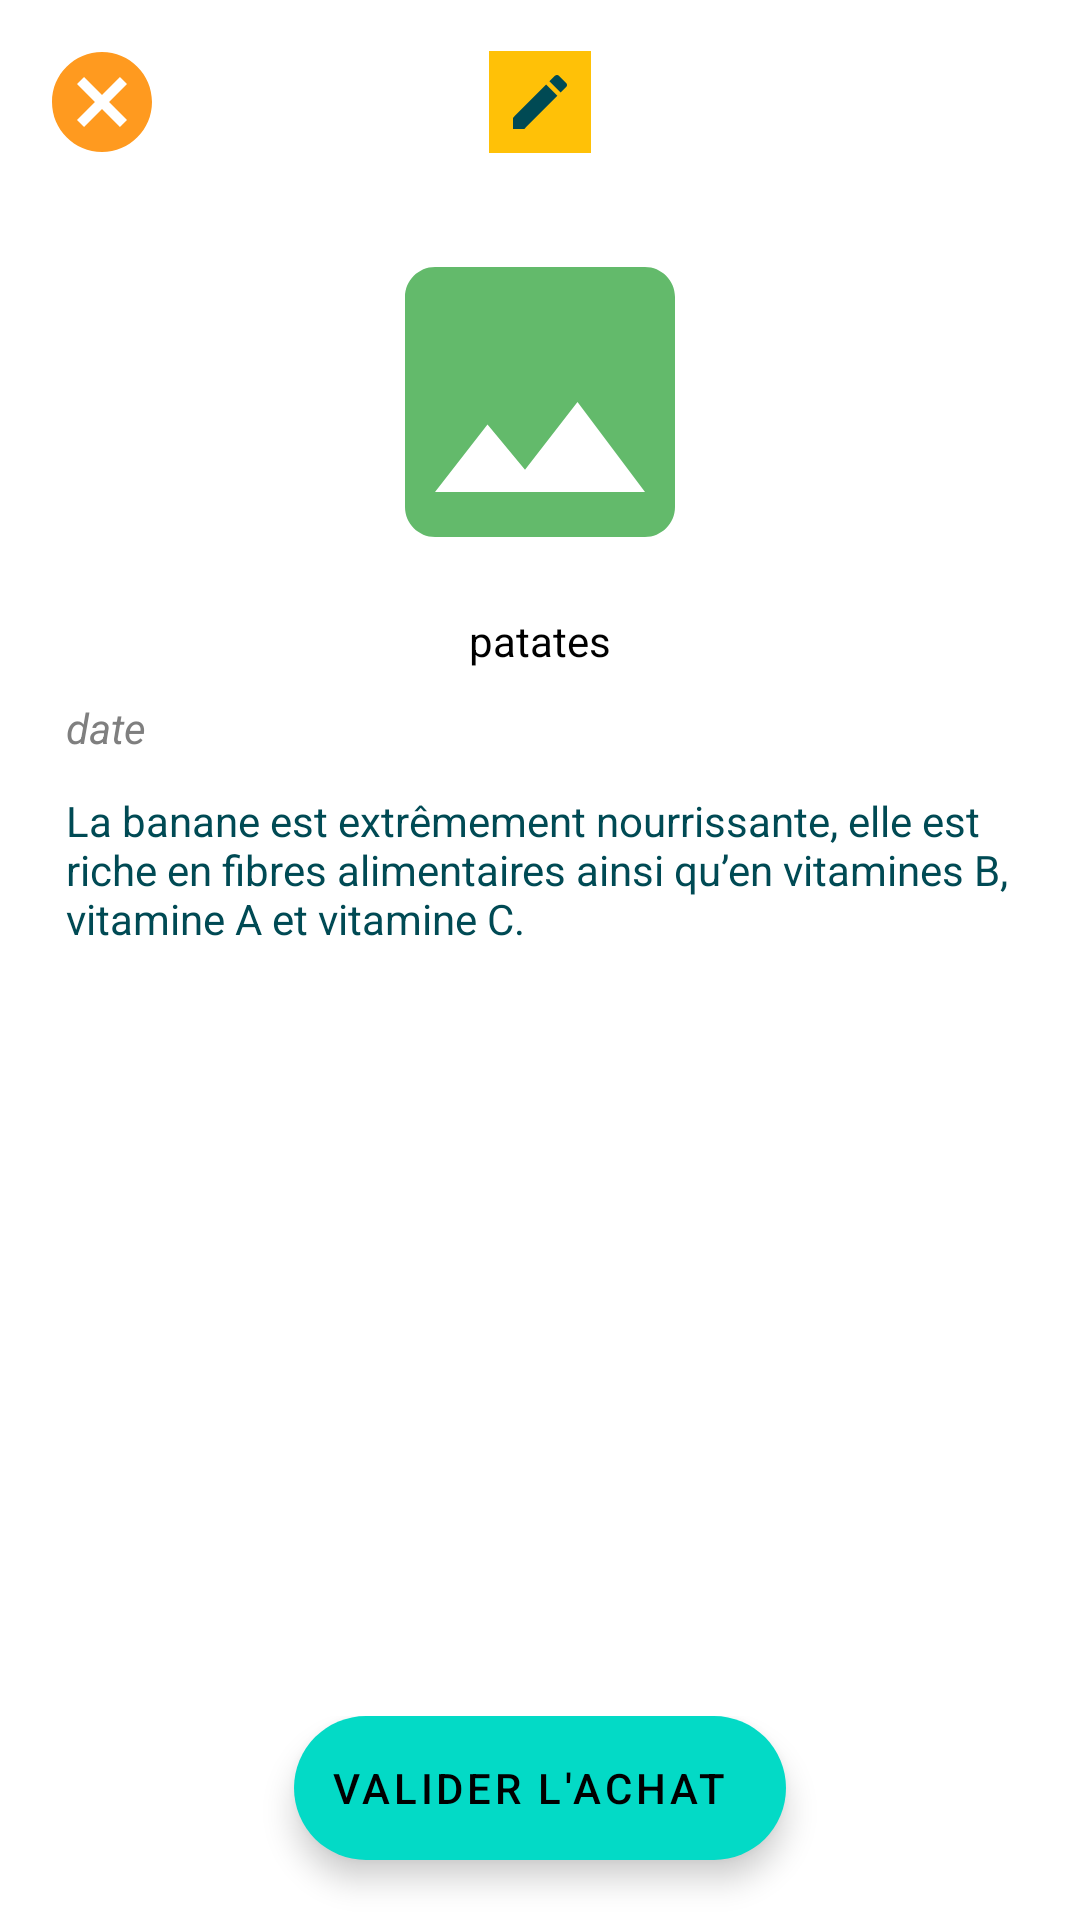

Icon bounding boxes for this 1080px×1920px phone screenshot, format (x1, y1, x2, y2):
edit: (489, 51, 591, 153)
